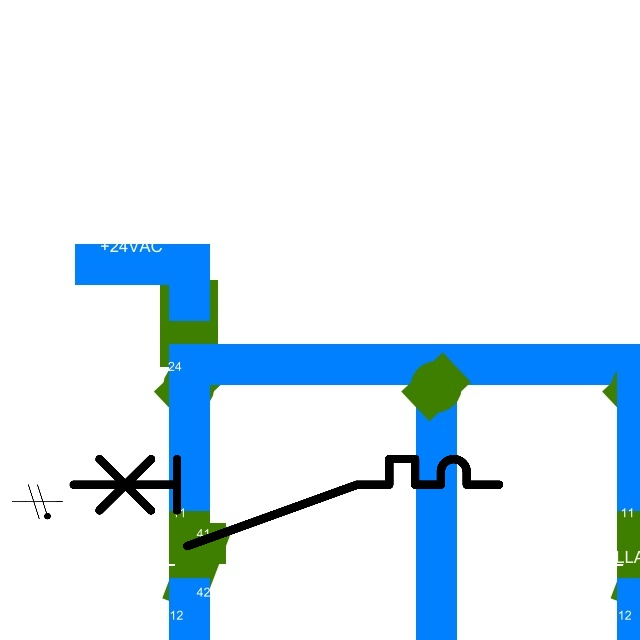interruptor_termomagnetico: (62, 448, 510, 557)
